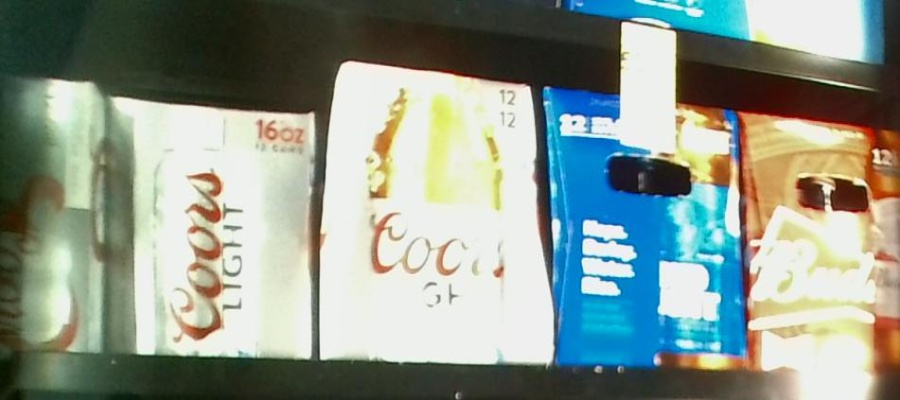bottle: (317, 55, 554, 367), (541, 82, 745, 361), (110, 94, 314, 358), (742, 105, 900, 361), (1, 82, 104, 356)
